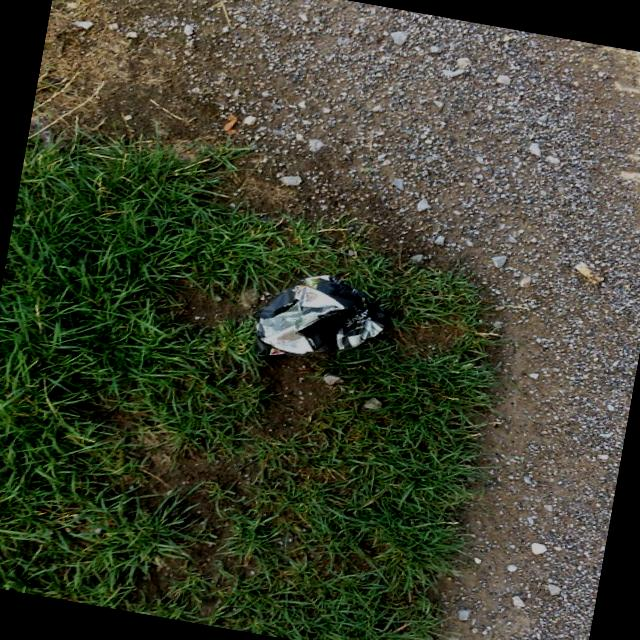Trash: (250, 266, 396, 376)
